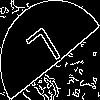L: (25, 25, 68, 79)
